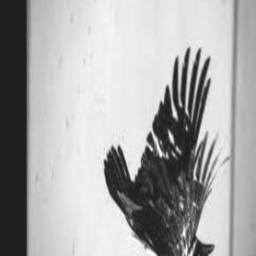Crow: (103, 47, 231, 256)
